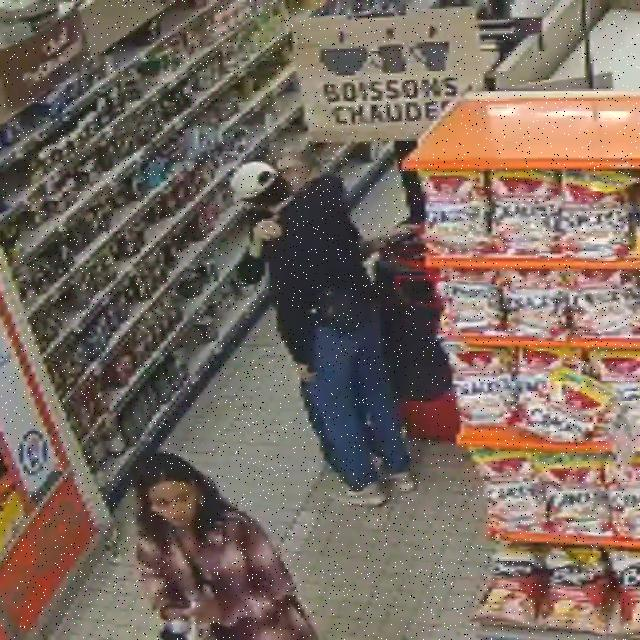hands: (362, 225, 419, 256), (250, 219, 281, 257), (190, 597, 221, 625), (297, 364, 316, 383)
person: (232, 163, 414, 505), (137, 453, 316, 639), (300, 378, 338, 472)
